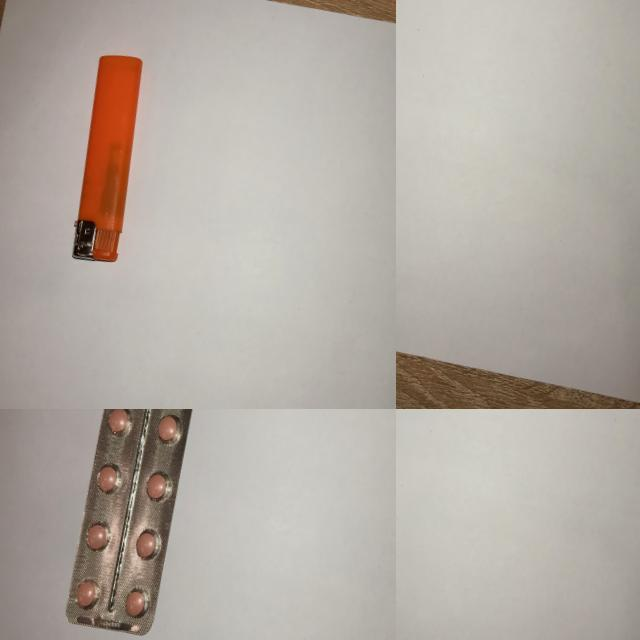lighter: (56, 42, 163, 278)
tablets: (56, 409, 211, 640)
